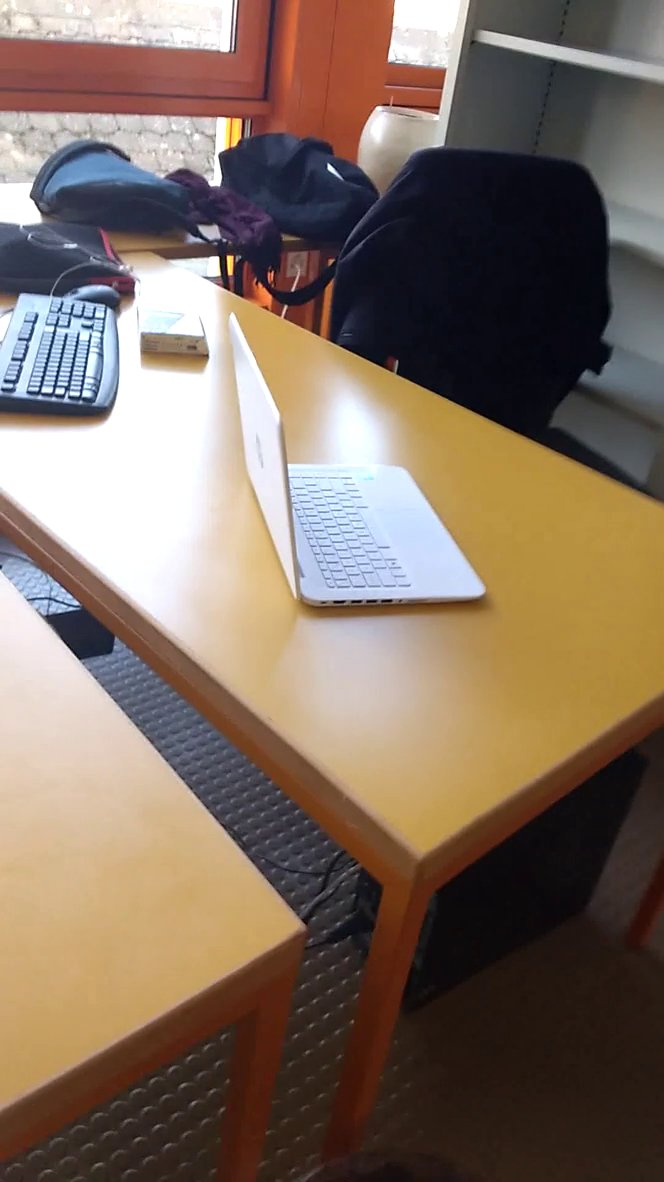bag: (214, 120, 387, 261), (24, 124, 199, 242)
chair: (316, 140, 630, 428)
laptop: (220, 306, 496, 620)
